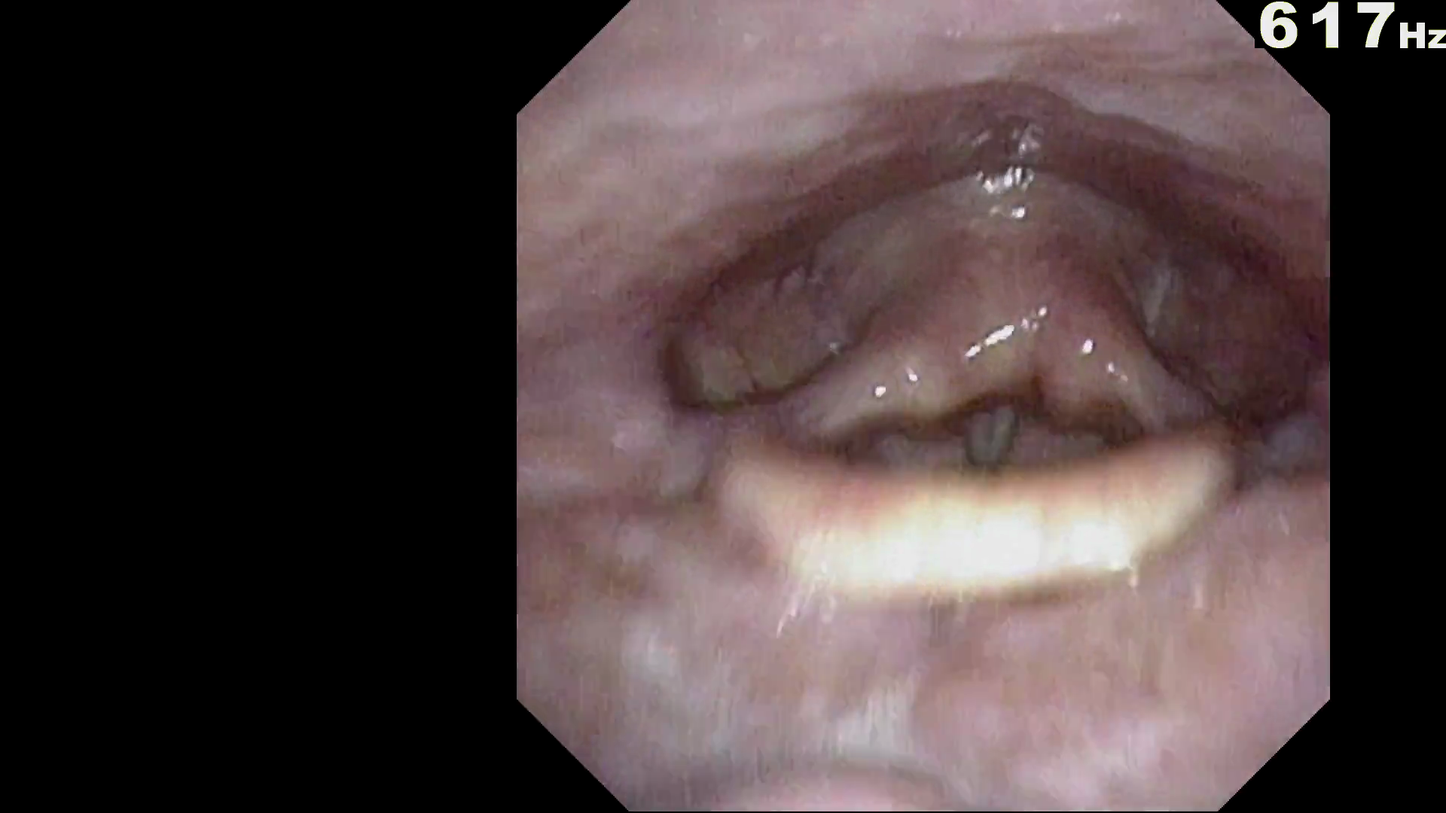epiglottis: (721, 347, 1261, 581)
